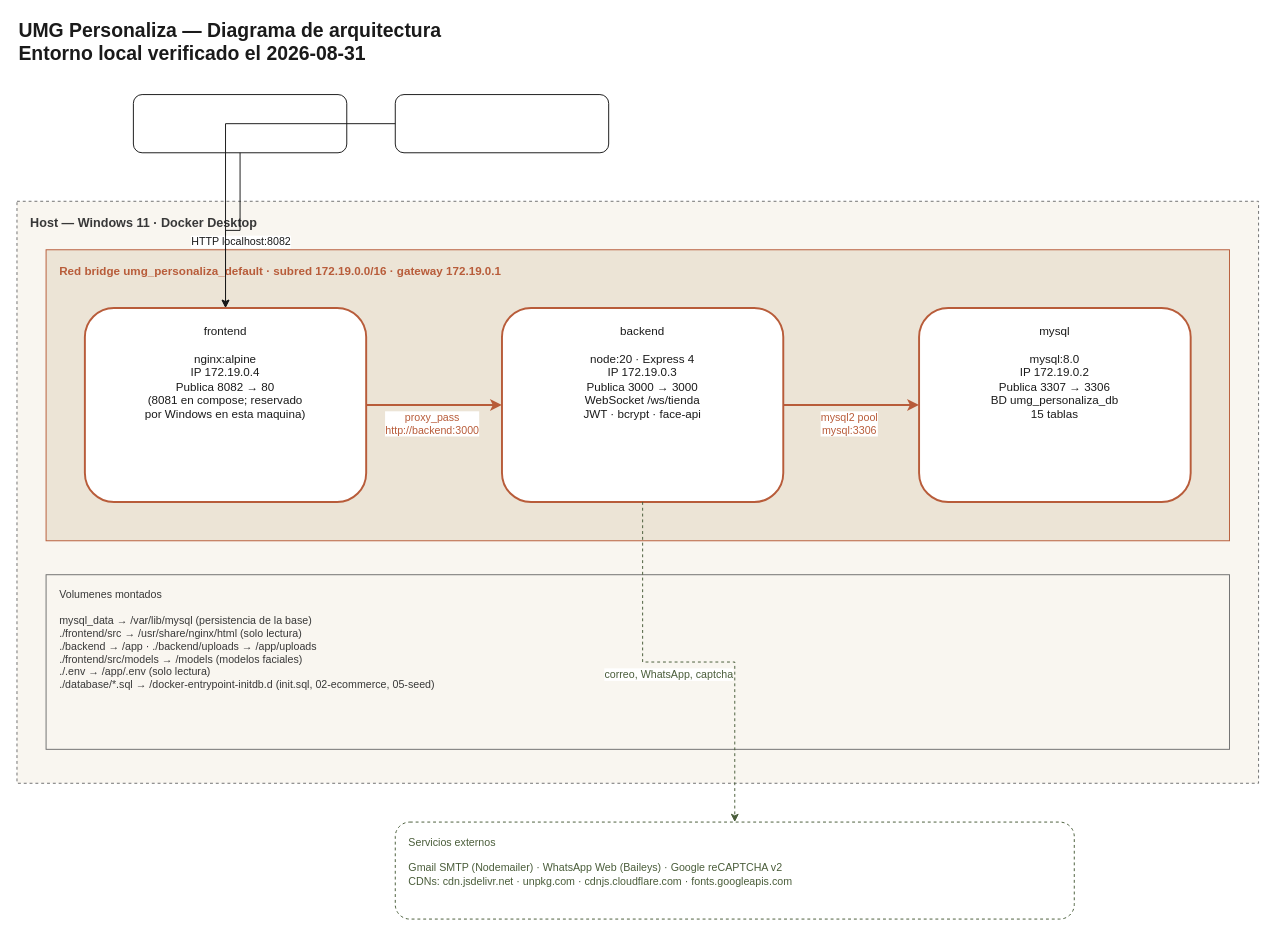
This 1276x936 diagram has some shape labels left out. Here are the shapes that lost their labels. From the top down, the centre of each, then its label:
the point at 239,123: Navegador de escritorio Chrome / Firefox / Edge
the point at 501,123: Movil del repartidor Camara para escaneo QR
